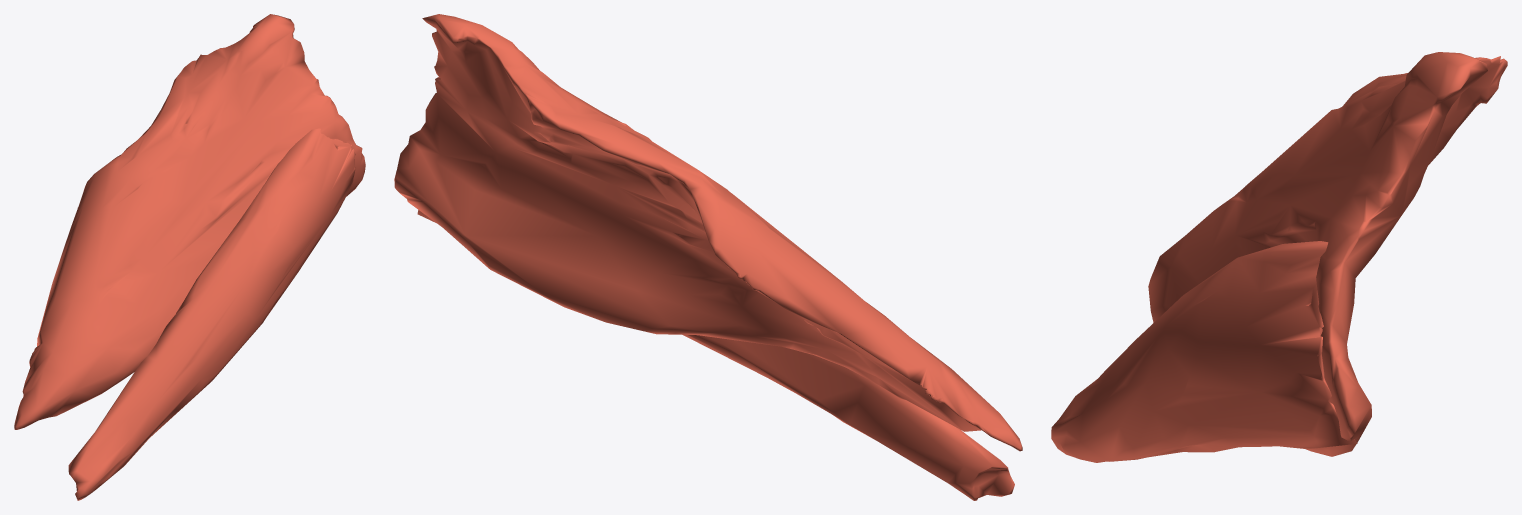
File: flexor-pollicis-brevis.glb
The picture shows the model from 3 angles, left to right: view 1: azimuth 30°, elevation 25°; view 2: azimuth 150°, elevation 25°; view 3: azimuth 270°, elevation 25°; orthographic projection. The views are drawn at different scales.
Parts seen in each view (by area): view 1: Deep head of flexor pollicis brevis.r, Superficial head of flexor pollicis brevis.r; view 2: Deep head of flexor pollicis brevis.r, Superficial head of flexor pollicis brevis.r; view 3: Deep head of flexor pollicis brevis.r, Superficial head of flexor pollicis brevis.r.
Boxes of the visible parts, bbox=[...] form: Deep head of flexor pollicis brevis.r: bbox=[14, 14, 365, 429]; Superficial head of flexor pollicis brevis.r: bbox=[68, 128, 355, 500]; Deep head of flexor pollicis brevis.r: bbox=[394, 14, 1022, 451]; Superficial head of flexor pollicis brevis.r: bbox=[417, 210, 1014, 500]; Deep head of flexor pollicis brevis.r: bbox=[1148, 52, 1507, 456]; Superficial head of flexor pollicis brevis.r: bbox=[1051, 241, 1357, 462].
Size of the model in its own units: 0.0493 by 0.0405 by 0.0246.
